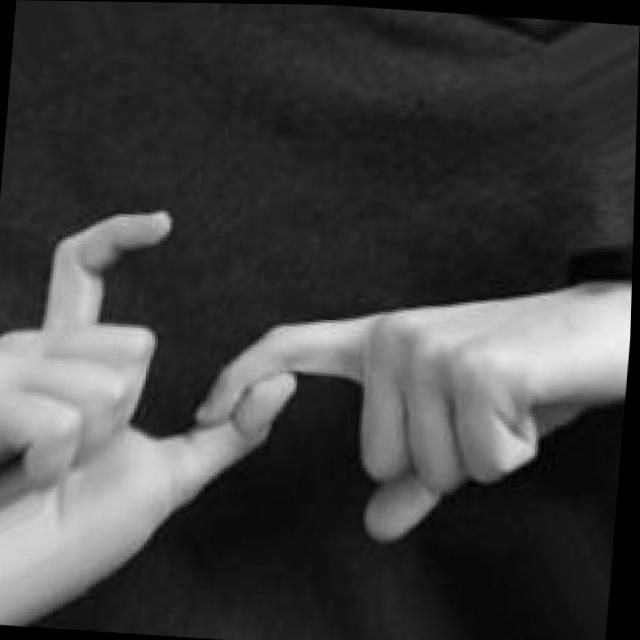S: (0, 185, 635, 627)
